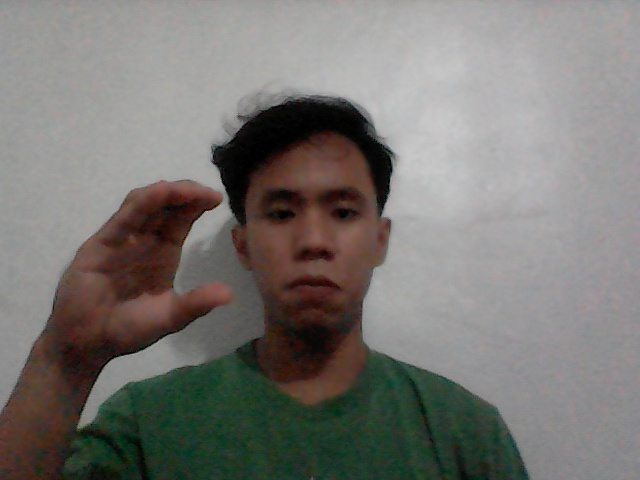C: (37, 155, 245, 374)
